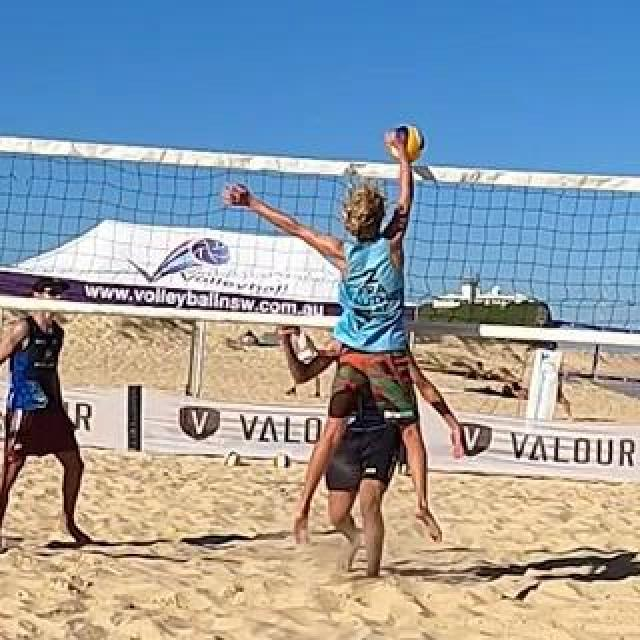volleyball: (387, 125, 423, 161), (223, 449, 241, 469), (275, 451, 291, 471)
